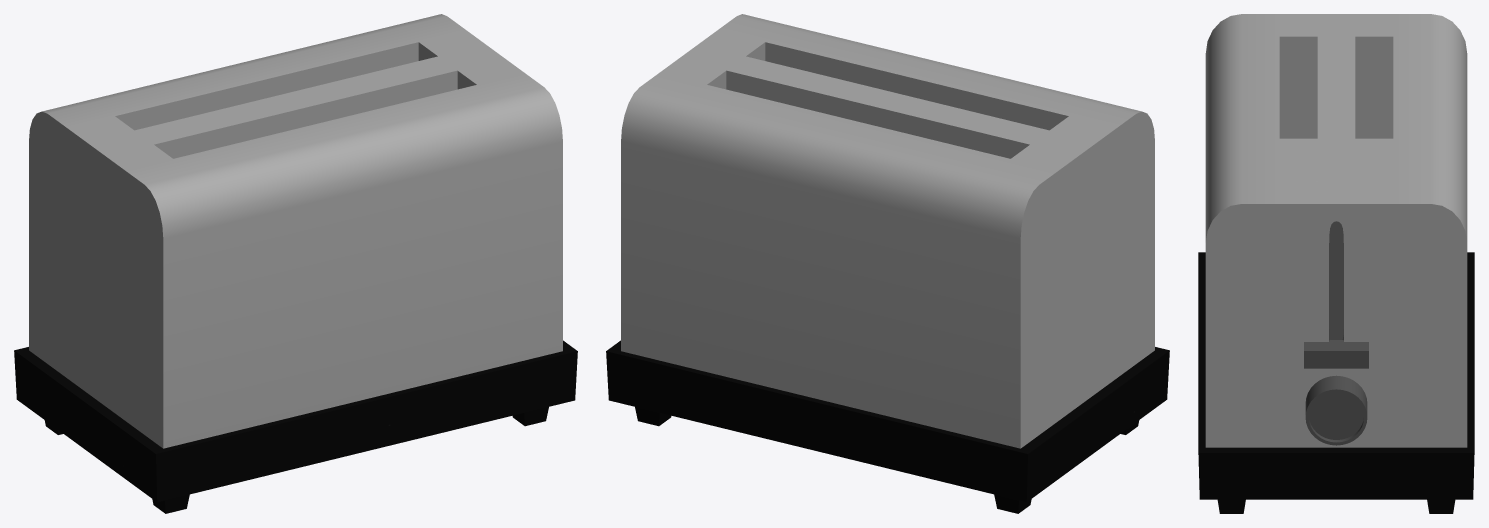
Rendered from toaster.fbx.
The picture shows the model from 3 angles, left to right: view 1: azimuth 30°, elevation 25°; view 2: azimuth 150°, elevation 25°; view 3: azimuth 270°, elevation 25°; orthographic projection. The views are drawn at different scales.
Visible parts, largest first — view 1: Cube; view 2: Cube; view 3: Cube.
Part boxes in pixels (x1=…): Cube: x1=14, y1=14, x2=577, y2=513; Cube: x1=606, y1=14, x2=1169, y2=513; Cube: x1=1198, y1=14, x2=1474, y2=513.
Size of the model in its own units: 378 by 266 by 211.
